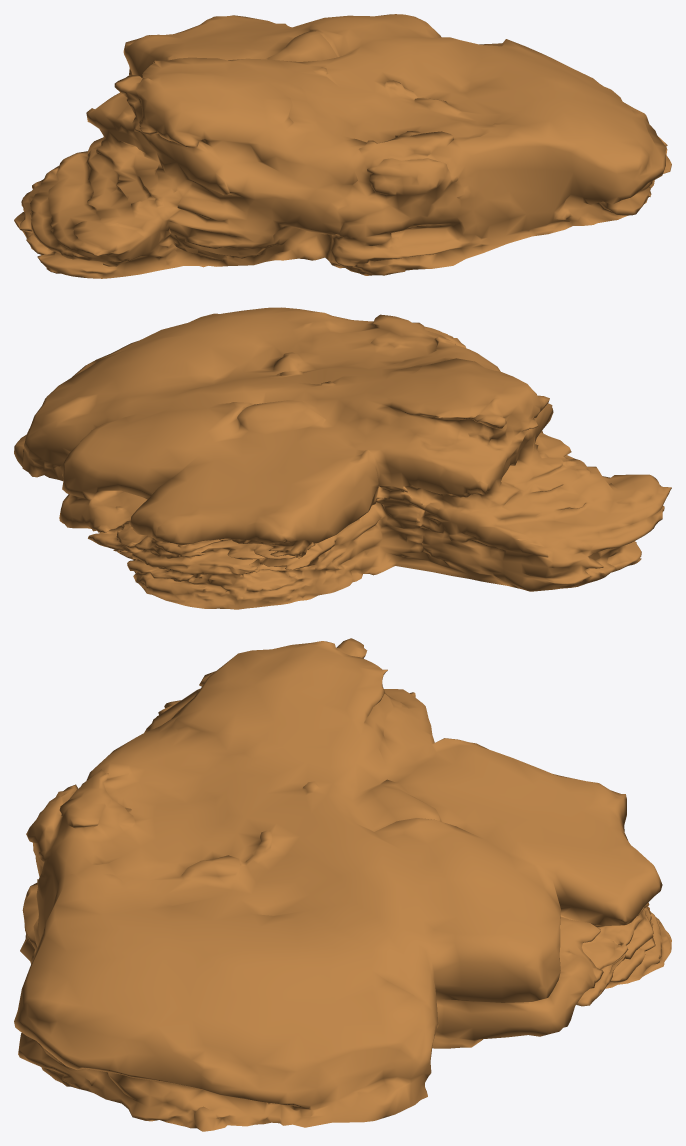
Rendered from MSH_Rocks_Boulder_20.FBX.
The picture shows the model from 3 angles, top to bottom: view 1: azimuth 30°, elevation 25°; view 2: azimuth 150°, elevation 25°; view 3: azimuth 270°, elevation 25°; orthographic projection. The views are drawn at different scales.
Visible parts, largest first — view 1: MESH_LOD0; view 2: MESH_LOD0; view 3: MESH_LOD0.
Part boxes in pixels (bbox=[...]): MESH_LOD0: bbox=[14, 14, 671, 278]; MESH_LOD0: bbox=[14, 307, 671, 609]; MESH_LOD0: bbox=[14, 638, 671, 1131].
Size of what is drawn, in the model's own units: 382 by 91.16 by 279.
